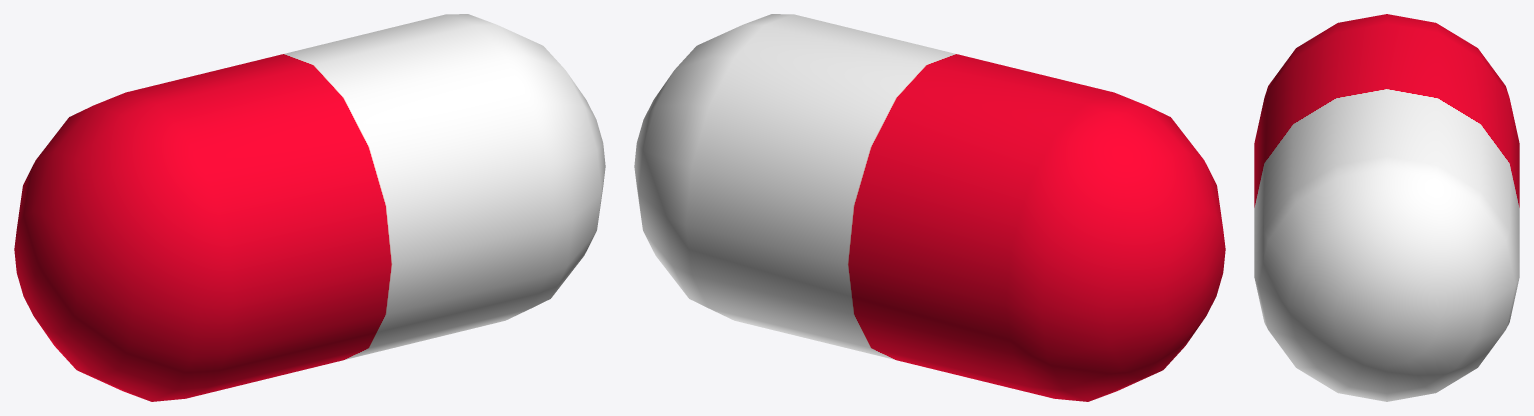
The model's file is Pastilla.fbx.
3 views of the same model, side by side, from view 1: azimuth 30°, elevation 25°; view 2: azimuth 150°, elevation 25°; view 3: azimuth 270°, elevation 25° (orthographic). The views are drawn at different scales.
Parts seen in each view (by area): view 1: Sphere; view 2: Sphere; view 3: Sphere.
Boxes of the visible parts, x1,y1,x2,y2 form: Sphere: [14, 14, 605, 401]; Sphere: [634, 14, 1225, 401]; Sphere: [1254, 14, 1519, 401].
Size of the model in its own units: 387 by 191 by 191.
